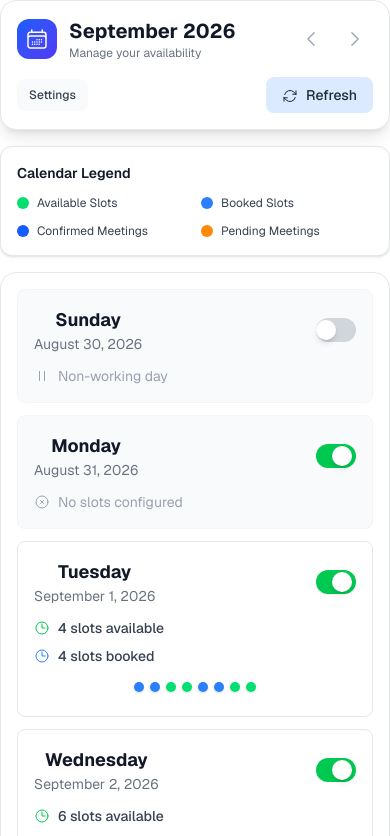
it: AvailabilityCalendar Integration Tests › Real-world Usage Scenarios › handles month-to-month navigation with data loading
Expected: the heading "September 2026" is shown, [69,17,235,45]
# Navigate to next month
Click the button titled "Next month".
click(355, 39)  # box [337,21,373,57]
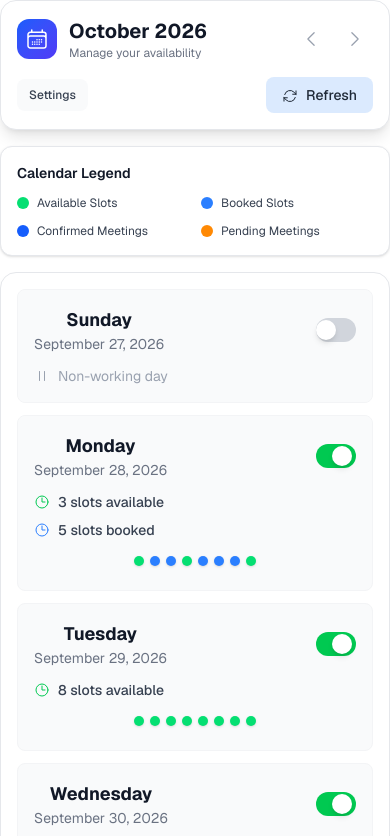
# Navigate back
Click the button titled "Previous month".
click(311, 39)  # box [293,21,329,57]
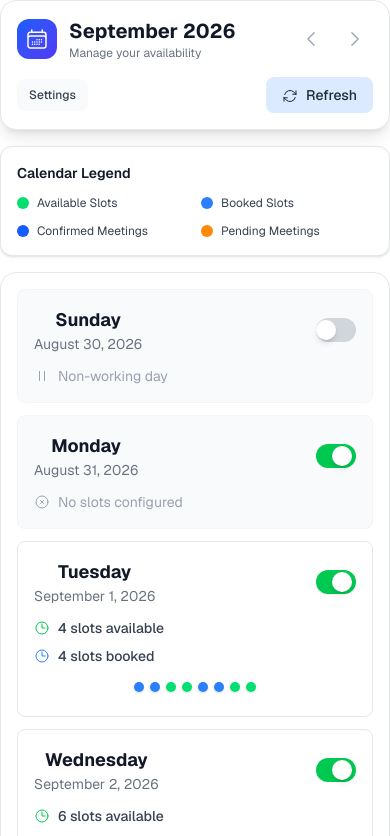
Now the heading "September 2026" is shown, box [69,17,235,45]
